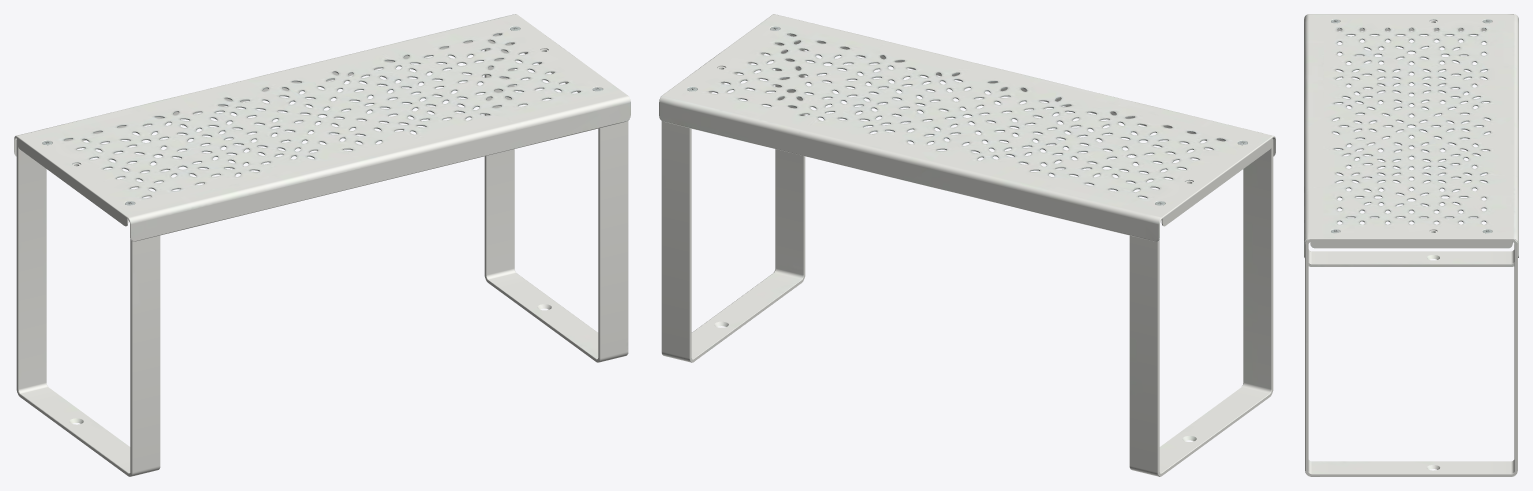
File: Variera80136622-scene-512.glb
3 renders of one model, left to right at view 1: azimuth 30°, elevation 25°; view 2: azimuth 150°, elevation 25°; view 3: azimuth 270°, elevation 25°, orthographic. The views are drawn at different scales.
Visible parts, largest first — view 1: 80136622-VARIERA001; view 2: 80136622-VARIERA001; view 3: 80136622-VARIERA001.
Boxes of the visible parts, <box> form: 80136622-VARIERA001: <box>14,14,630,476</box>; 80136622-VARIERA001: <box>659,14,1275,476</box>; 80136622-VARIERA001: <box>1304,14,1518,476</box>.
Size of the model in its own units: 0.315 by 0.1567 by 0.1273.
1 material, 1 textured.
